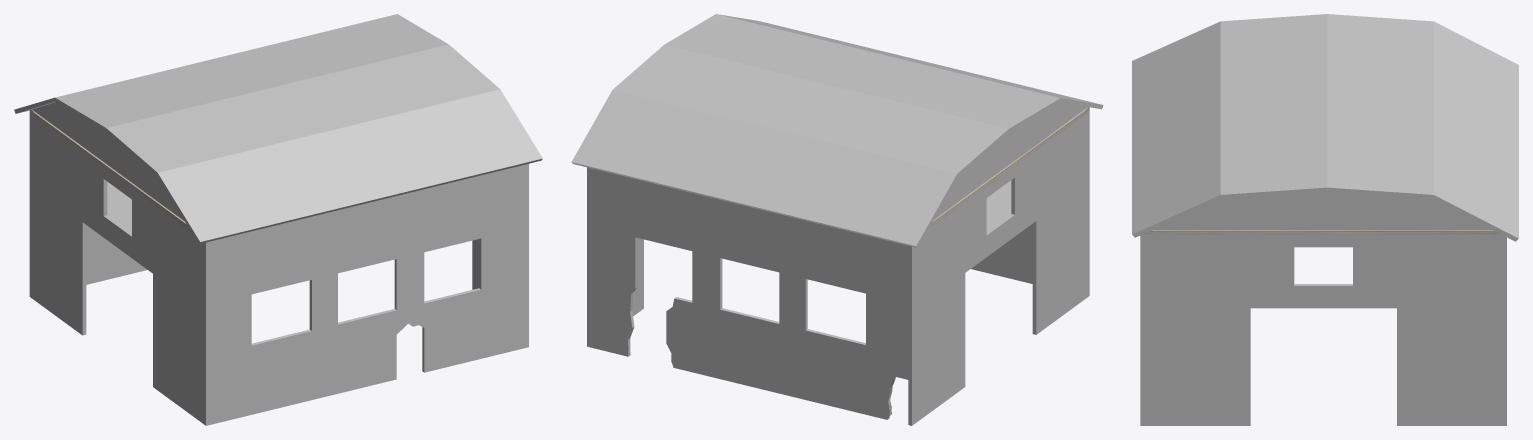
Rendered from MDL_Galpao.fbx.
The picture shows the model from 3 angles, left to right: view 1: azimuth 30°, elevation 25°; view 2: azimuth 150°, elevation 25°; view 3: azimuth 270°, elevation 25°; orthographic projection. The views are drawn at different scales.
Parts seen in each view (by area): view 1: Galpão_Combined; view 2: Galpão_Combined; view 3: Galpão_Combined.
Part boxes in pixels (left/top/right/bottom): Galpão_Combined: left=14, top=14, right=542, bottom=425; Galpão_Combined: left=571, top=14, right=1103, bottom=425; Galpão_Combined: left=1132, top=14, right=1518, bottom=425.
Size of the model in its own units: 93.36 by 61.04 by 87.93.
